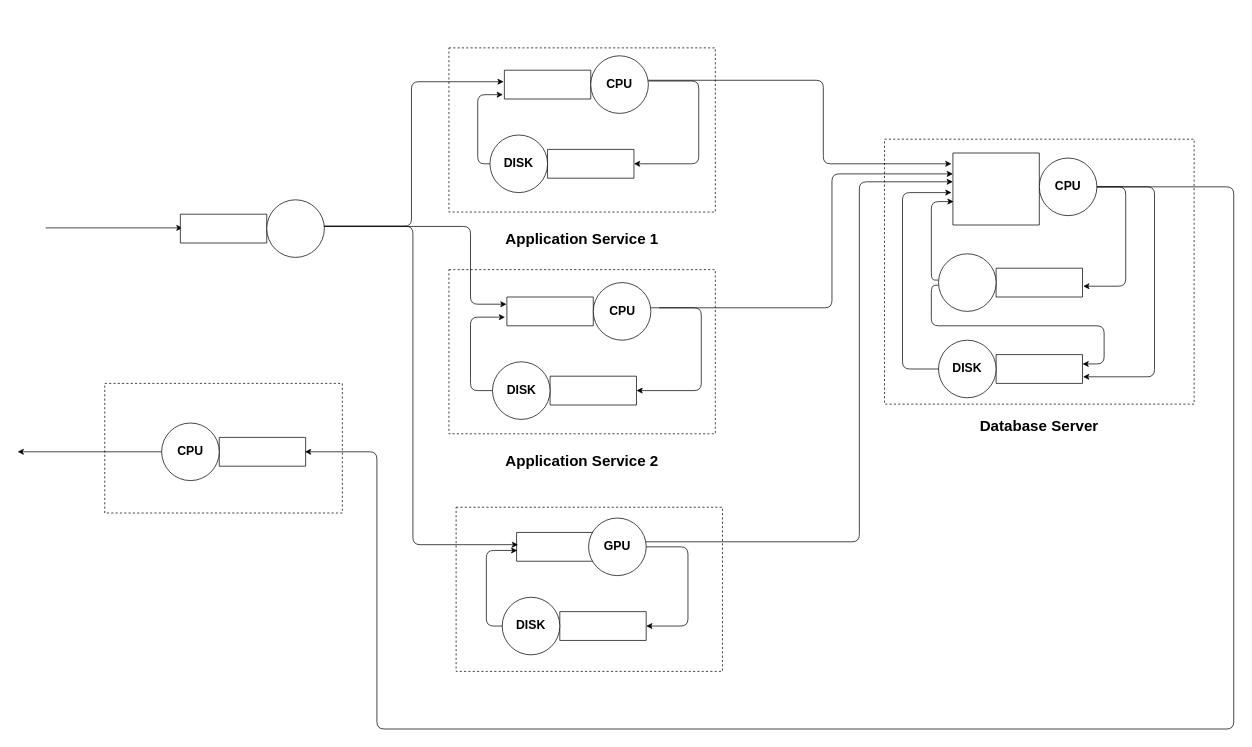
Some shapes in this 1252 by 747 pixel diagram are drawn without their labels. Each missing label, with the box of its shape:
Application Service 3: (455, 507, 723, 671)
CACHE: (938, 253, 996, 311)
Load Balancer: (266, 199, 324, 257)
Web Service: (104, 383, 342, 513)
